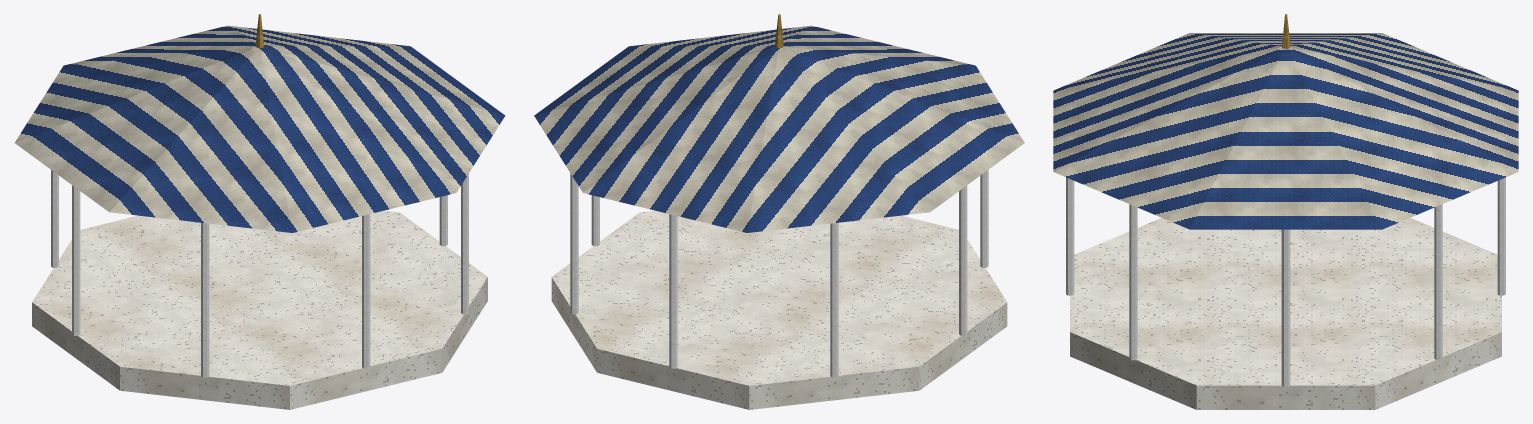
File: kiosco_musica.obj
3 renders of one model, left to right at view 1: azimuth 30°, elevation 25°; view 2: azimuth 150°, elevation 25°; view 3: azimuth 270°, elevation 25°, orthographic.
Visible parts, largest first — view 1: kiosco_musica; view 2: kiosco_musica; view 3: kiosco_musica.
Part boxes in pixels (x1,y1,x2,y2): kiosco_musica: [14, 14, 505, 409]; kiosco_musica: [534, 14, 1024, 409]; kiosco_musica: [1053, 14, 1518, 409].
Bounding box in the file's own units: 7.76 × 5.6 × 7.76.
4 materials, 4 textured.
